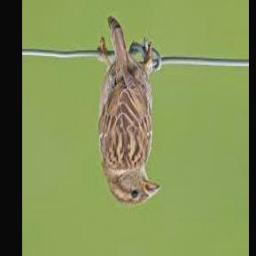Sparrow: (99, 18, 161, 208)
